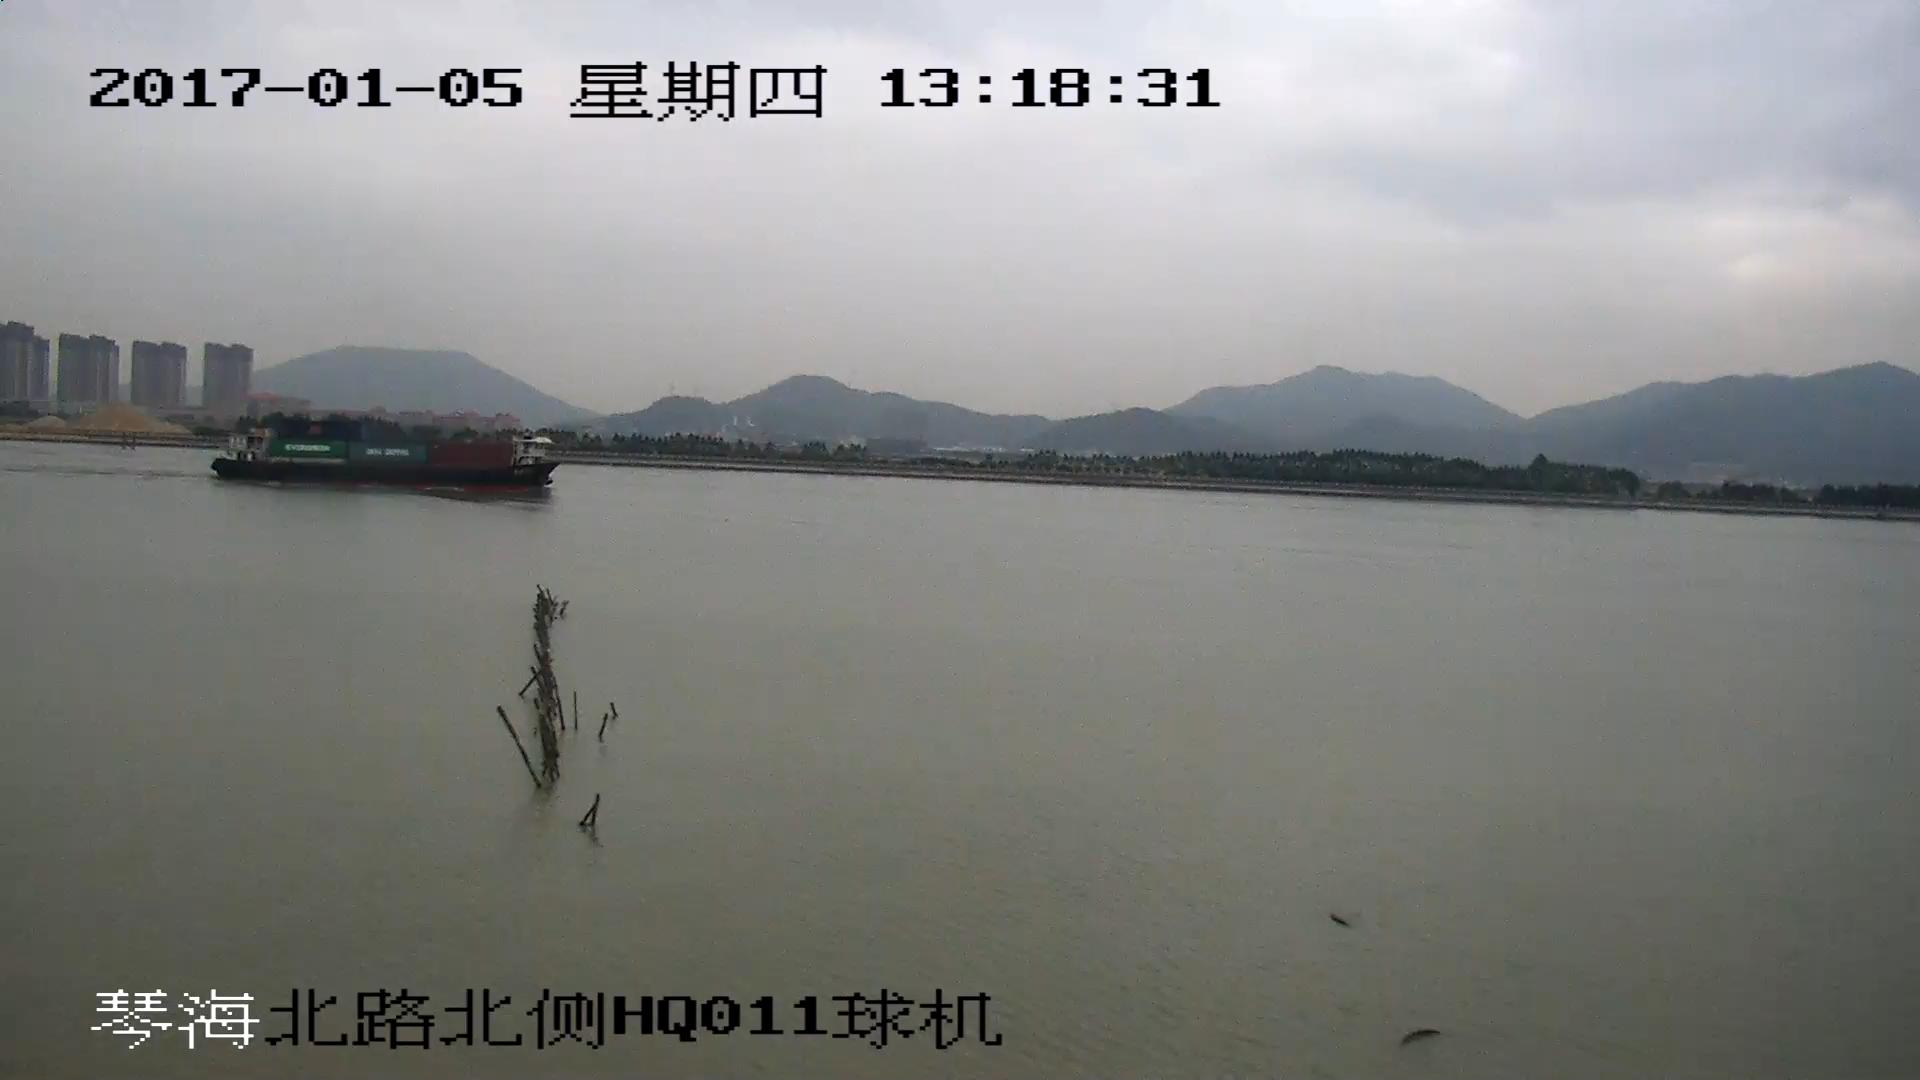container ship: (208, 419, 554, 492)
